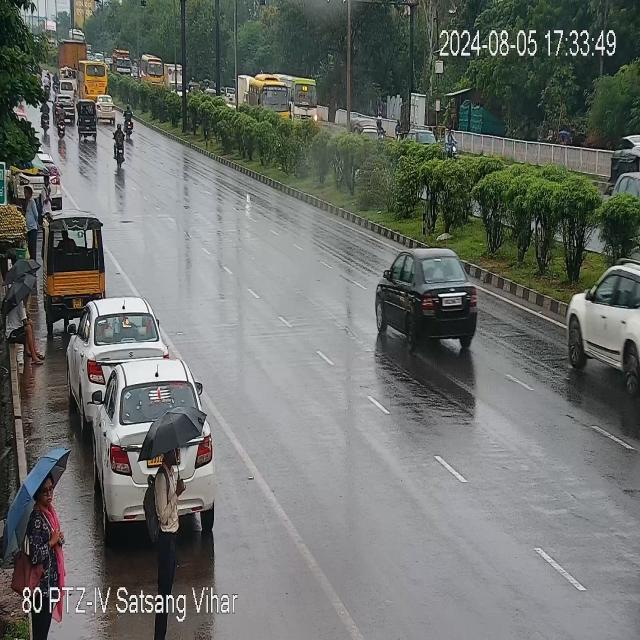2-wheelers: (114, 124, 124, 169), (124, 104, 134, 140), (57, 101, 66, 140), (41, 101, 49, 133)
auto: (42, 210, 108, 314), (76, 98, 98, 141)
bus: (246, 74, 292, 121), (288, 73, 323, 121), (79, 60, 110, 99), (140, 51, 163, 85)
car: (90, 362, 213, 502), (371, 245, 483, 348), (69, 296, 162, 404), (568, 251, 639, 382), (53, 94, 75, 122), (96, 94, 116, 122)
pedestrian: (27, 473, 59, 640), (150, 444, 181, 585), (23, 180, 37, 258), (41, 173, 52, 220)
